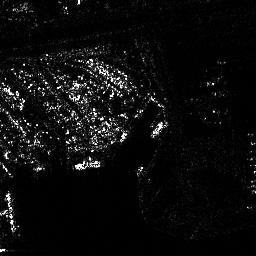ship: (74, 160, 101, 171), (150, 120, 165, 138)
